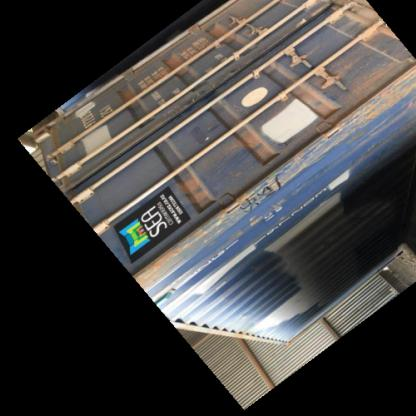Damage: (327, 66, 395, 130), (116, 53, 180, 105), (214, 173, 286, 219)
